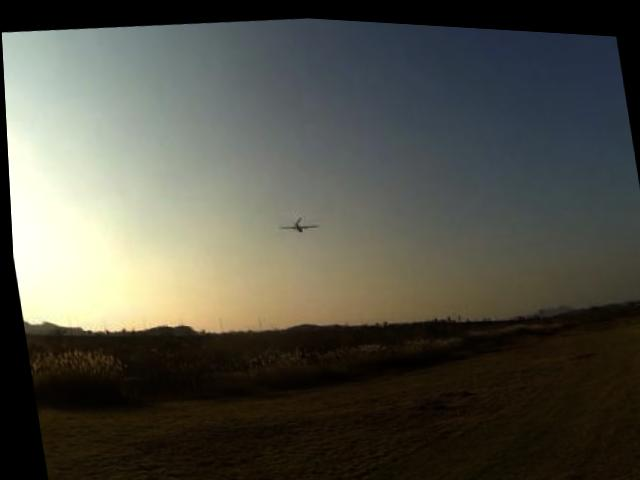uav: (266, 205, 323, 240)
